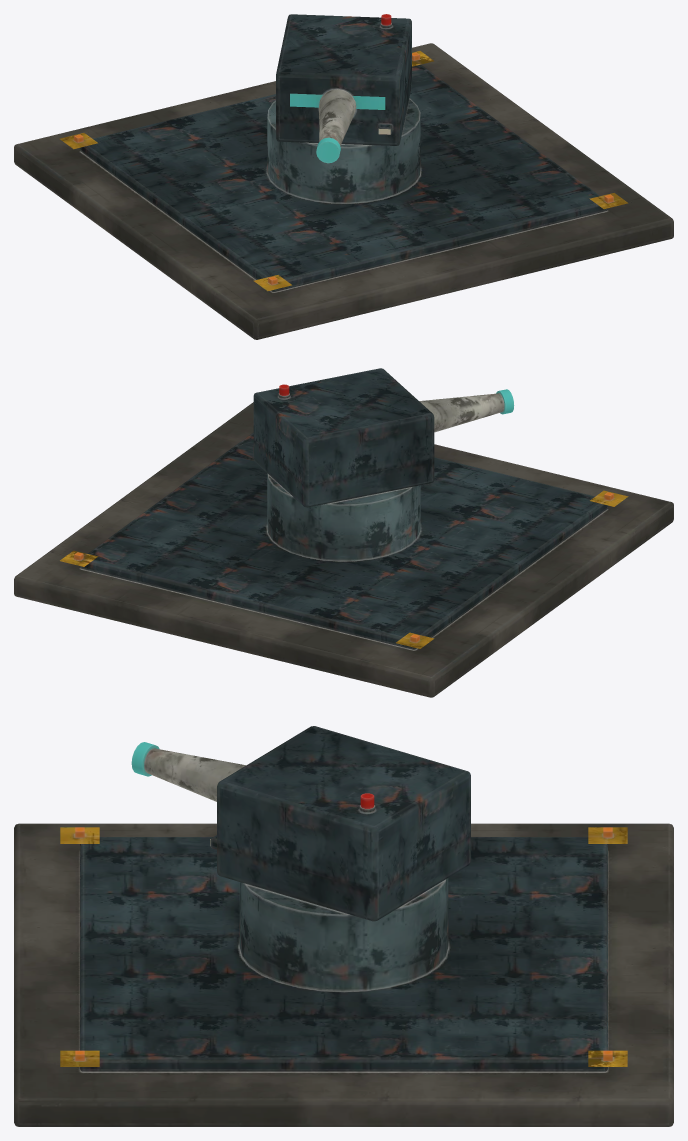
File: spinal_laser.glb
3 views of the same model, one above another, from view 1: azimuth 30°, elevation 25°; view 2: azimuth 150°, elevation 25°; view 3: azimuth 270°, elevation 25° (orthographic). The views are drawn at different scales.
Visible parts, largest first — view 1: te_spinal_laser; view 2: te_spinal_laser; view 3: te_spinal_laser.
Boxes of the visible parts, x1,y1,x2,y2 form: te_spinal_laser: (14,14,673,339); te_spinal_laser: (14,368,673,697); te_spinal_laser: (14,726,673,1126).
Bounding box in the file's own units: 1.72 × 0.6528 × 1.72.
1 material, 1 textured.
